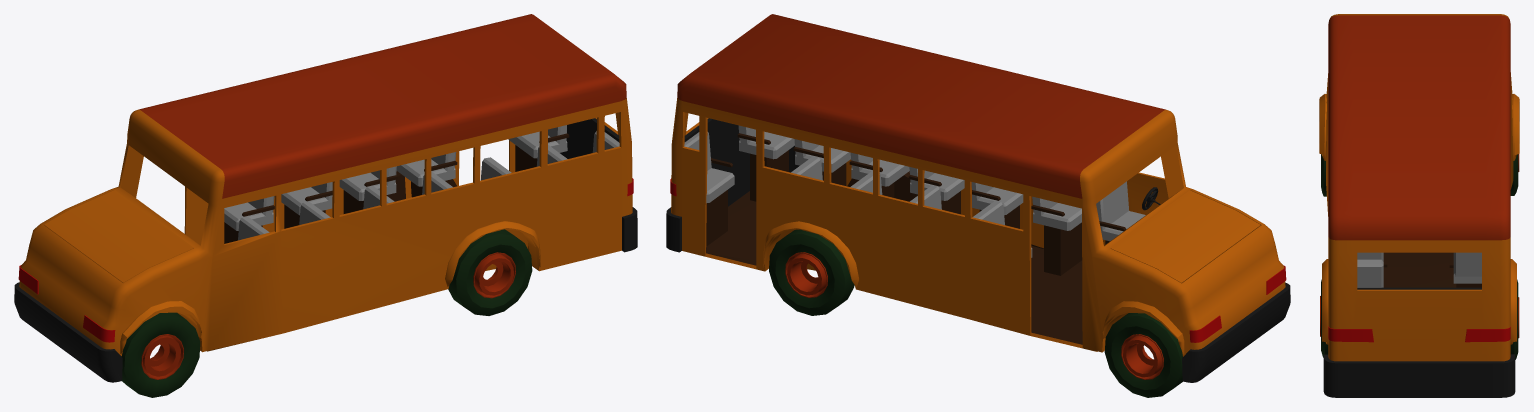
The model's file is BUS.fbx.
The picture shows the model from 3 angles, left to right: view 1: azimuth 30°, elevation 25°; view 2: azimuth 150°, elevation 25°; view 3: azimuth 270°, elevation 25°; orthographic projection.
Parts seen in each view (by area): view 1: bus001; view 2: bus001; view 3: bus001.
Boxes of the visible parts, bbox=[...] form: bus001: bbox=[14, 14, 637, 397]; bus001: bbox=[666, 14, 1290, 397]; bus001: bbox=[1319, 14, 1519, 397].
Bounding box in the file's own units: 797 × 292 × 253.
